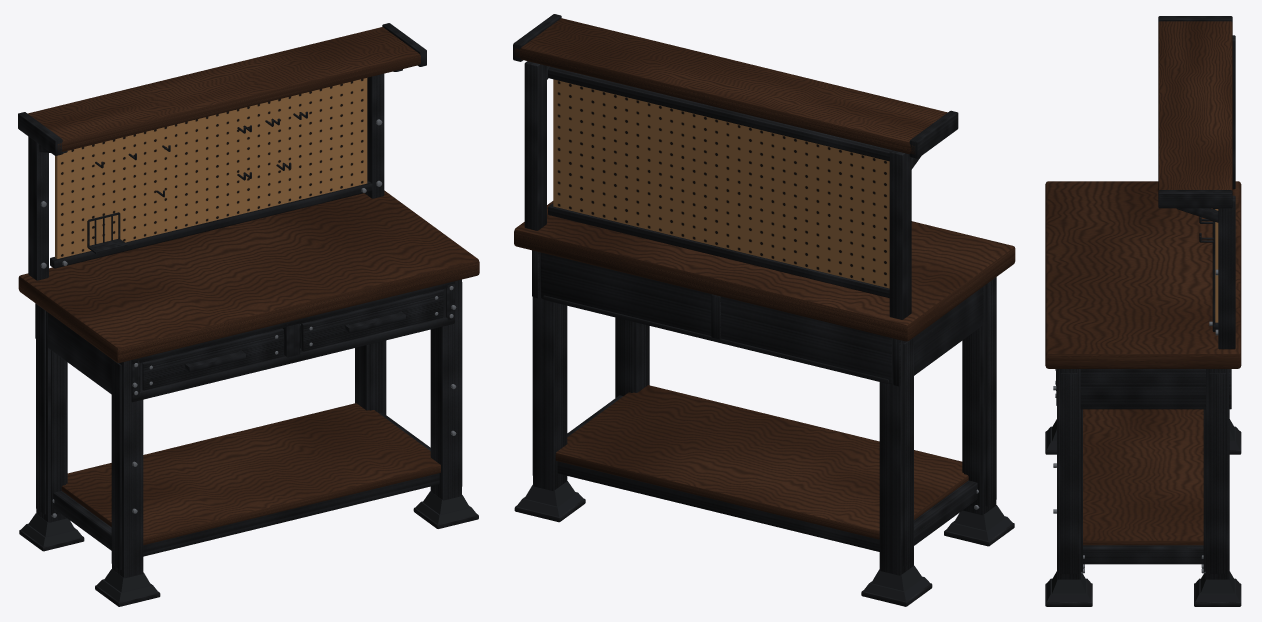
File: workbench.glb
The picture shows the model from 3 angles, left to right: view 1: azimuth 30°, elevation 25°; view 2: azimuth 150°, elevation 25°; view 3: azimuth 270°, elevation 25°; orthographic projection. The views are drawn at different scales.
Visible parts, largest first — view 1: workbench_body, Drawer_Right, Drawer_Left; view 2: workbench_body; view 3: workbench_body.
Boxes of the visible parts, left/top/right/bottom form: workbench_body: left=18, top=23, right=479, bottom=606; Drawer_Right: left=300, top=289, right=443, bottom=351; Drawer_Left: left=142, top=328, right=283, bottom=390; workbench_body: left=513, top=14, right=1015, bottom=606; workbench_body: left=1045, top=16, right=1241, bottom=606.
Bounding box in the file's own units: 1.33 × 1.47 × 0.64.
6 materials, 3 textured.
